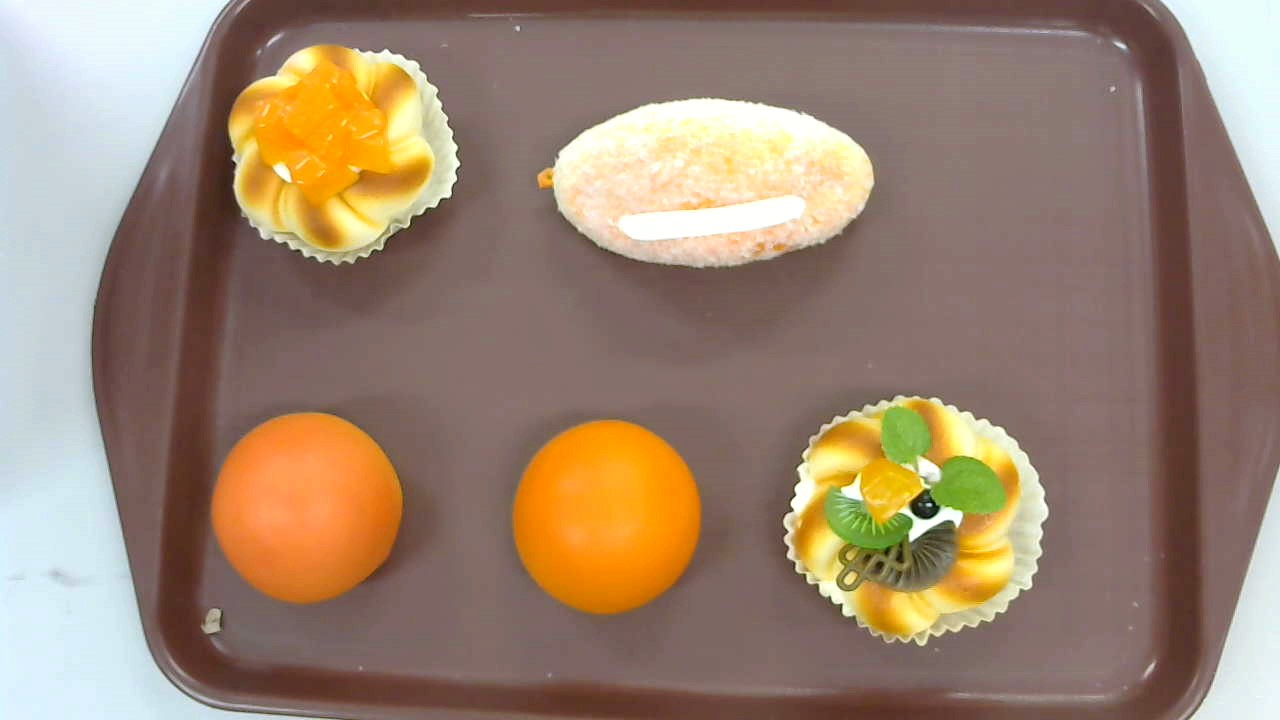bun: (512, 417, 702, 613), (210, 411, 404, 602)
coconut: (538, 96, 876, 269)
fruit tart: (781, 395, 1051, 643)
mango tart: (227, 42, 461, 268)
